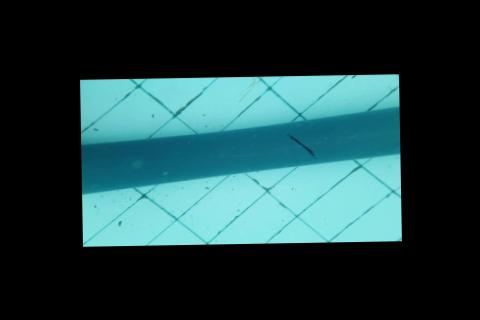keretakan: (283, 131, 315, 160)
